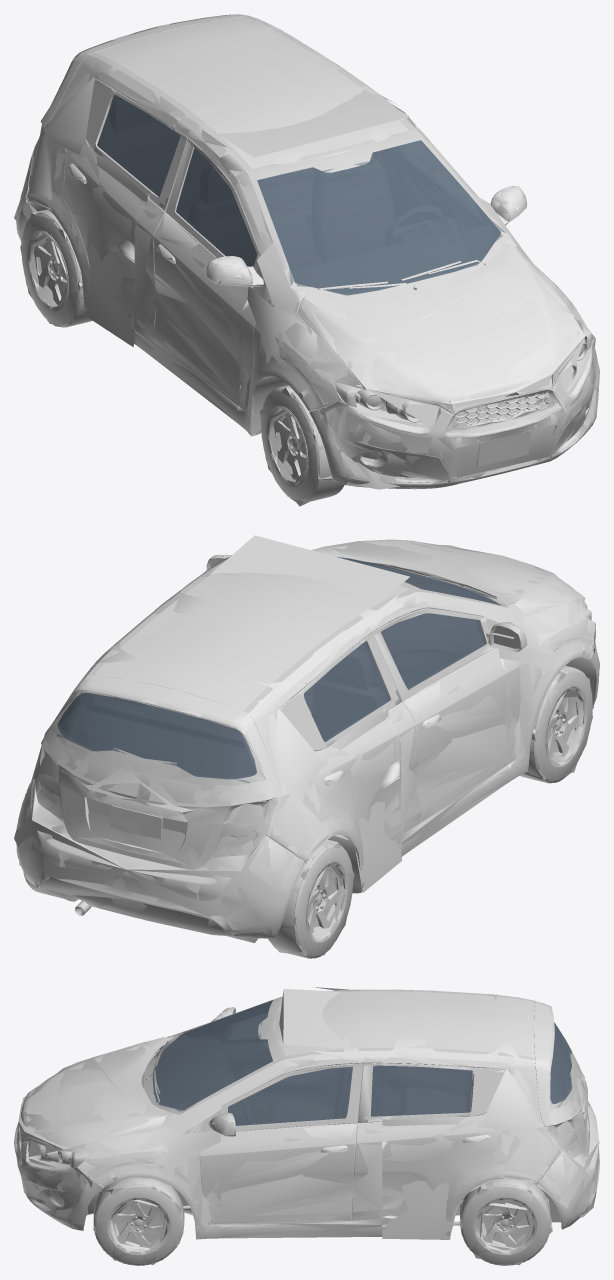
The model's file is compact.fbx.
3 views of the same model, one above another, from view 1: azimuth 30°, elevation 25°; view 2: azimuth 150°, elevation 25°; view 3: azimuth 270°, elevation 25° (orthographic). The views are drawn at different scales.
Parts seen in each view (by area): view 1: Body, LOD1_Body, LOD3_Body, LOD2_Body, LOD1_Door_FR, Door_FR, LOD3_Door_FR, LOD2_Door_FR, Wheel_FR, Wheel_RR, LOD1_Wheel_RR, LOD1_Wheel_FR (+4 smaller); view 2: Body, LOD1_Body, LOD3_Body, LOD2_Body, LOD1_Door_FR, LOD3_Door_FR, Door_FR, LOD2_Door_FR, Wheel_RR, Wheel_FR, LOD1_Wheel_RR, LOD1_Wheel_FR (+2 smaller); view 3: Body, LOD1_Body, LOD3_Body, LOD2_Body, LOD3_Door_FL, LOD1_Door_FL, Door_FL, LOD2_Door_FL, Wheel_FL, Wheel_RL, LOD1_Wheel_RL, LOD1_Wheel_FL (+4 smaller).
Boxes of the visible parts, x1=… form: Body: x1=16, y1=14, x2=599, y2=488; LOD1_Body: x1=17, y1=14, x2=599, y2=489; LOD3_Body: x1=14, y1=77, x2=595, y2=489; LOD2_Body: x1=16, y1=20, x2=599, y2=489; LOD1_Door_FR: x1=136, y1=131, x2=313, y2=422; Door_FR: x1=134, y1=126, x2=313, y2=423; LOD3_Door_FR: x1=134, y1=148, x2=289, y2=421; LOD2_Door_FR: x1=136, y1=148, x2=279, y2=412; Wheel_FR: x1=261, y1=385, x2=344, y2=502; Wheel_RR: x1=21, y1=210, x2=92, y2=327; LOD1_Wheel_RR: x1=21, y1=212, x2=90, y2=327; LOD1_Wheel_FR: x1=260, y1=388, x2=342, y2=502; Body: x1=16, y1=539, x2=599, y2=938; LOD1_Body: x1=16, y1=539, x2=599, y2=937; LOD3_Body: x1=14, y1=535, x2=595, y2=943; LOD2_Body: x1=17, y1=548, x2=598, y2=937; LOD1_Door_FR: x1=362, y1=584, x2=525, y2=856; LOD3_Door_FR: x1=381, y1=589, x2=507, y2=852; Door_FR: x1=359, y1=581, x2=527, y2=854; LOD2_Door_FR: x1=384, y1=582, x2=509, y2=840; Wheel_RR: x1=269, y1=841, x2=352, y2=958; Wheel_FR: x1=520, y1=665, x2=592, y2=783; LOD1_Wheel_RR: x1=268, y1=844, x2=353, y2=958; LOD1_Wheel_FR: x1=522, y1=668, x2=592, y2=783; Body: x1=14, y1=989, x2=599, y2=1238; LOD1_Body: x1=14, y1=989, x2=599, y2=1239; LOD3_Body: x1=18, y1=987, x2=599, y2=1239; LOD2_Body: x1=14, y1=991, x2=598, y2=1239; LOD3_Door_FL: x1=215, y1=1055, x2=382, y2=1238; LOD1_Door_FL: x1=208, y1=1058, x2=382, y2=1238; Door_FL: x1=207, y1=1052, x2=382, y2=1238; LOD2_Door_FL: x1=221, y1=1052, x2=382, y2=1230; Wheel_FL: x1=93, y1=1177, x2=184, y2=1265; Wheel_RL: x1=460, y1=1178, x2=550, y2=1264; LOD1_Wheel_RL: x1=461, y1=1178, x2=550, y2=1265; LOD1_Wheel_FL: x1=94, y1=1177, x2=184, y2=1265.
Bounding box in the file's own units: 1.9 × 1.51 × 4.
